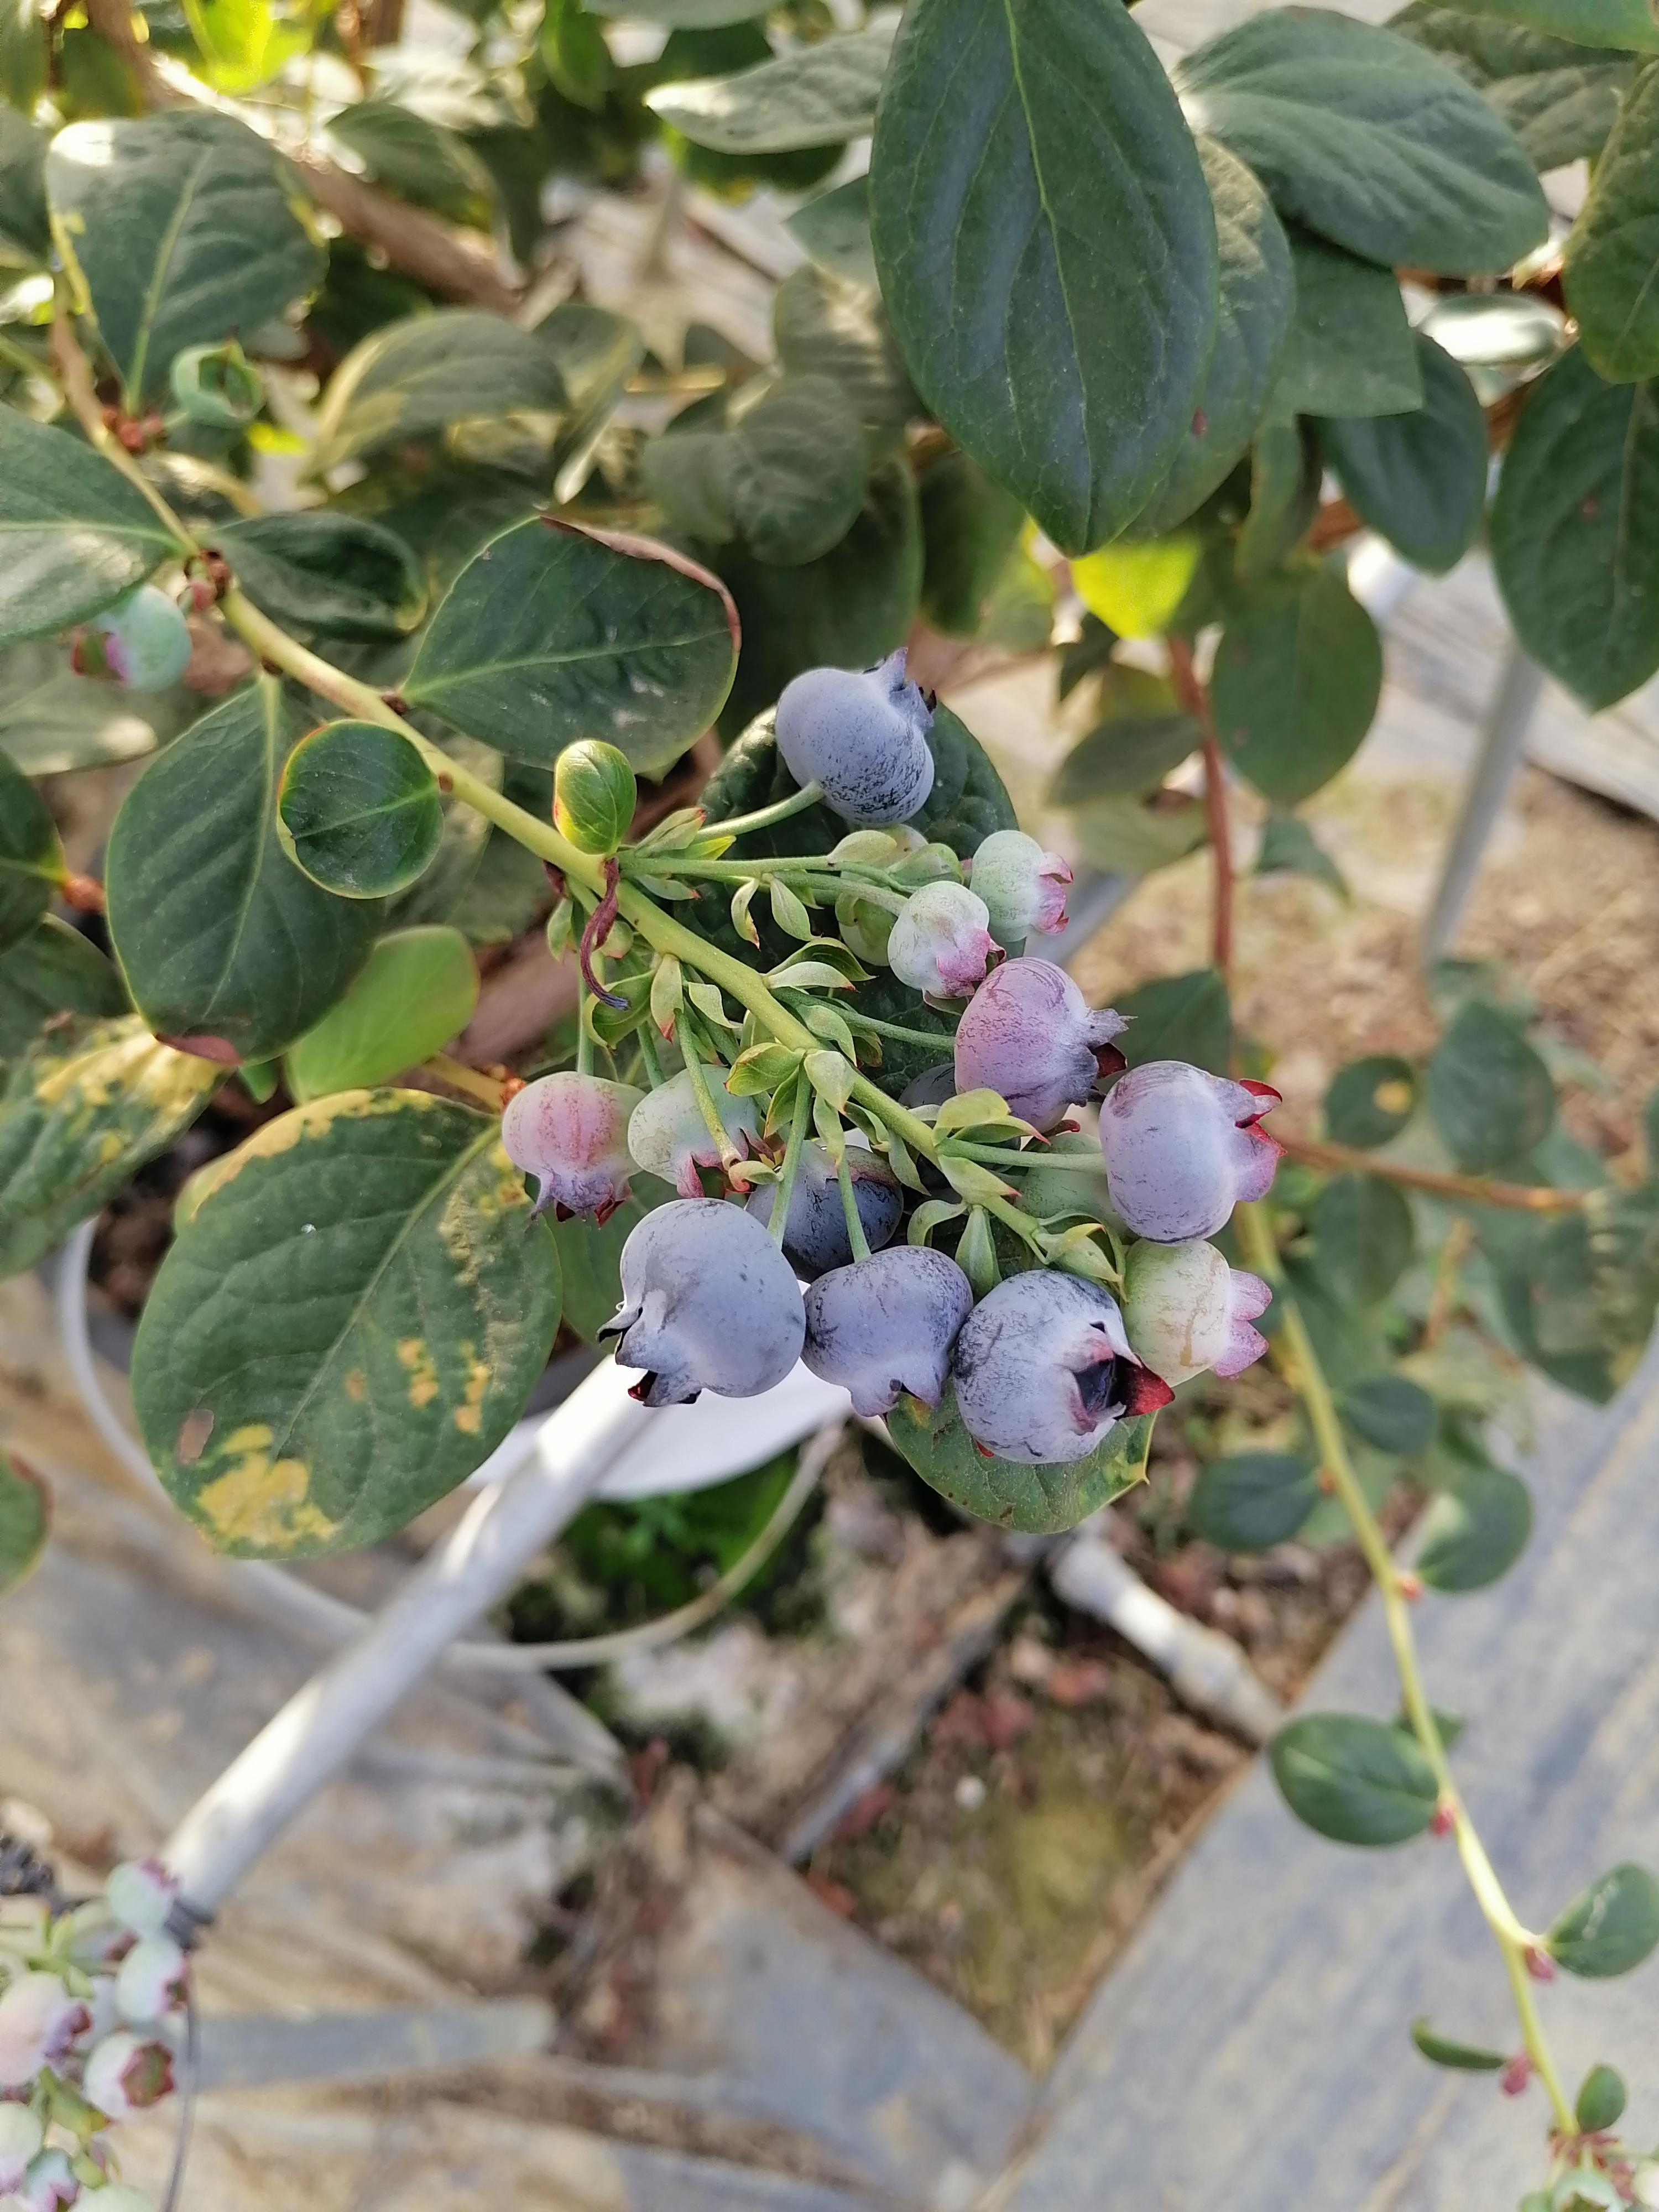ripe-blueberries: (594, 1195, 807, 1406), (950, 1270, 1173, 1465), (774, 644, 938, 831), (803, 1245, 974, 1416), (746, 1144, 903, 1284), (899, 1061, 958, 1108)
